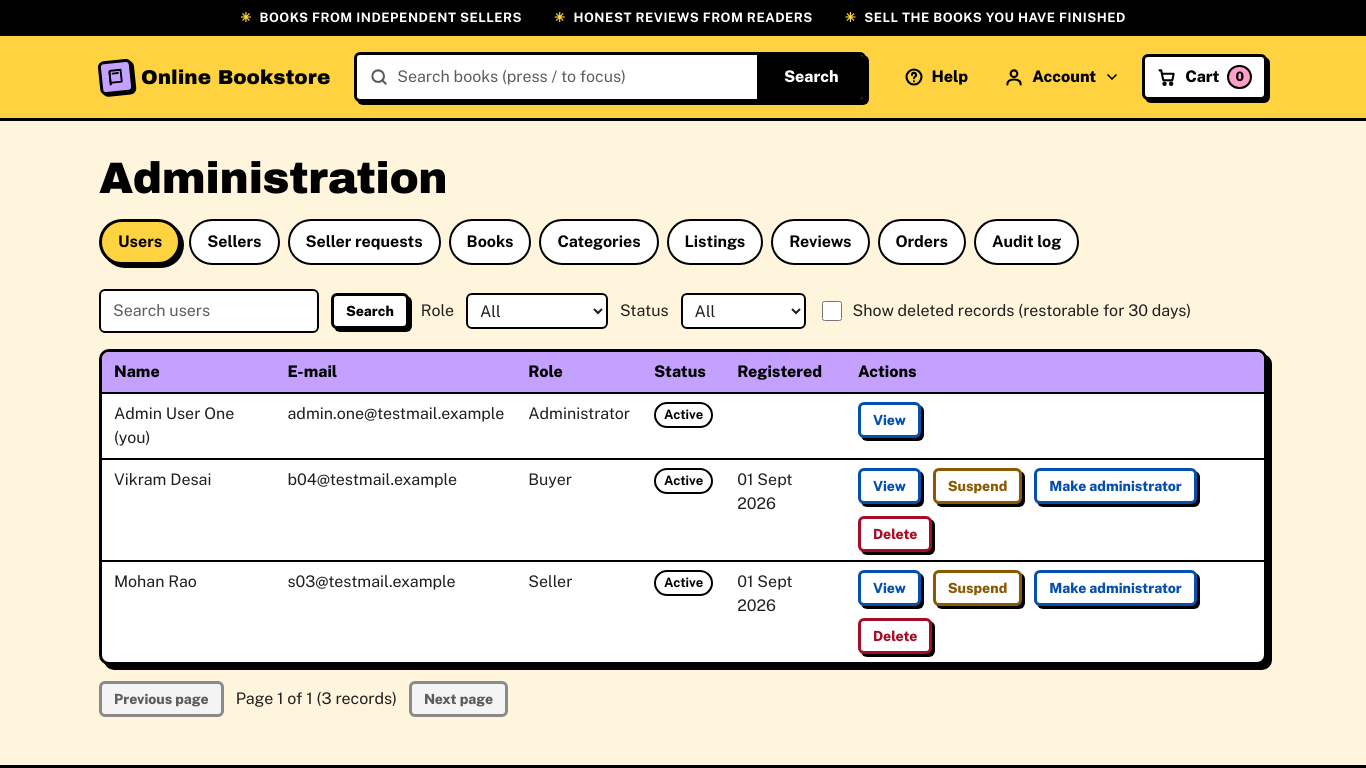
Test: Administration console › TC-BR5-01: a refused action shows the server reason
Check: the heading "Administration" is shown, box x1=99 y1=154 x2=447 y2=202
Check: the table is shown, box x1=102 y1=352 x2=1264 y2=662
Click the tab "Books".
click(490, 242)  # box x1=449 y1=219 x2=532 y2=265
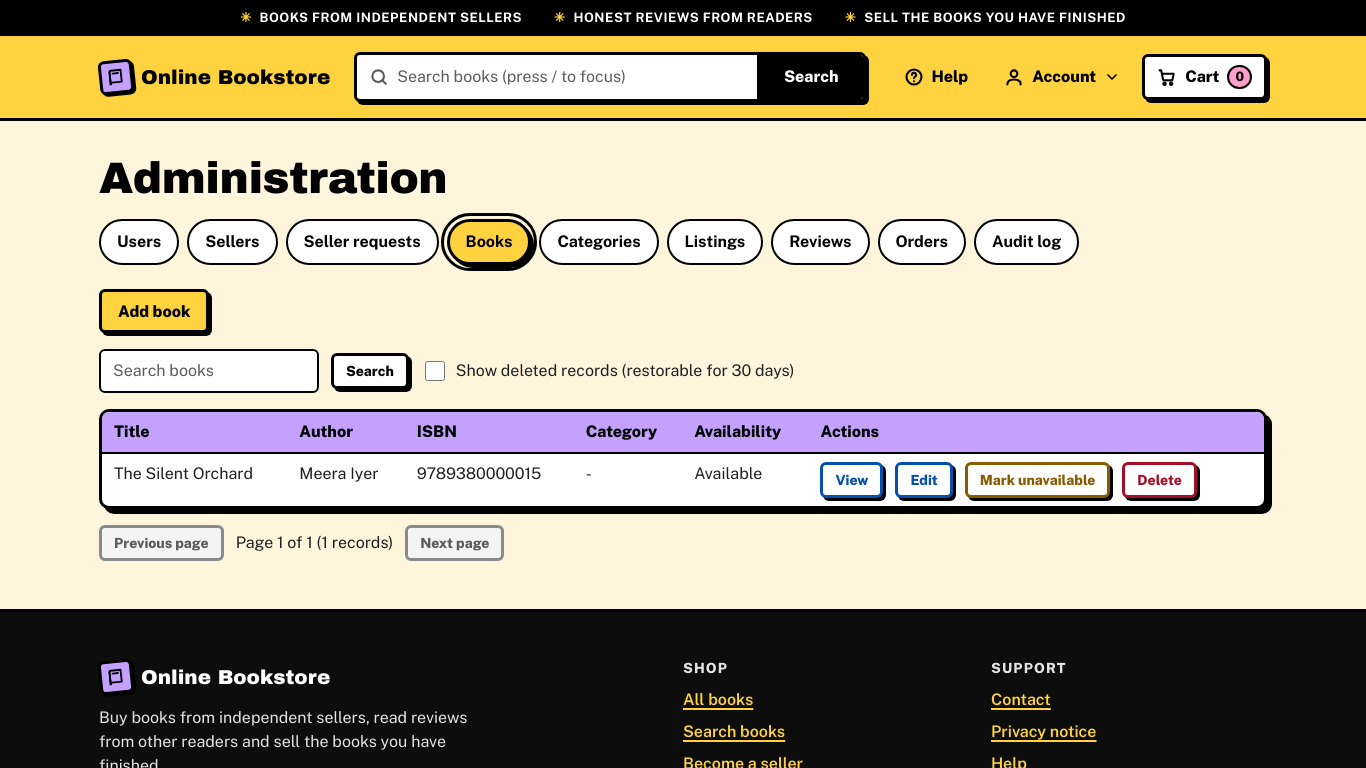
Click the button with aria-label "Delete The Silent Orchard".
click(1160, 480)  # box x1=1122 y1=462 x2=1197 y2=498
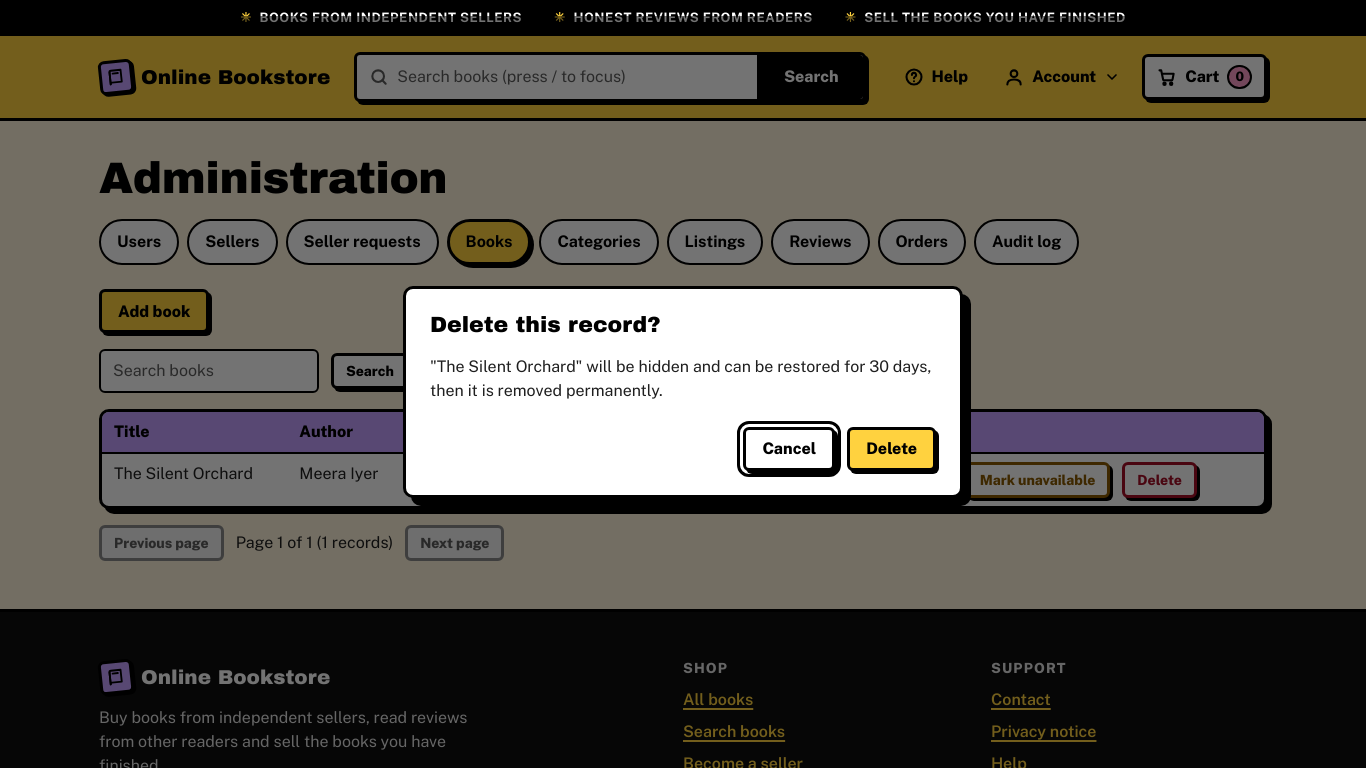
Click the button "Delete".
click(892, 449)  # box x1=847 y1=427 x2=936 y2=471
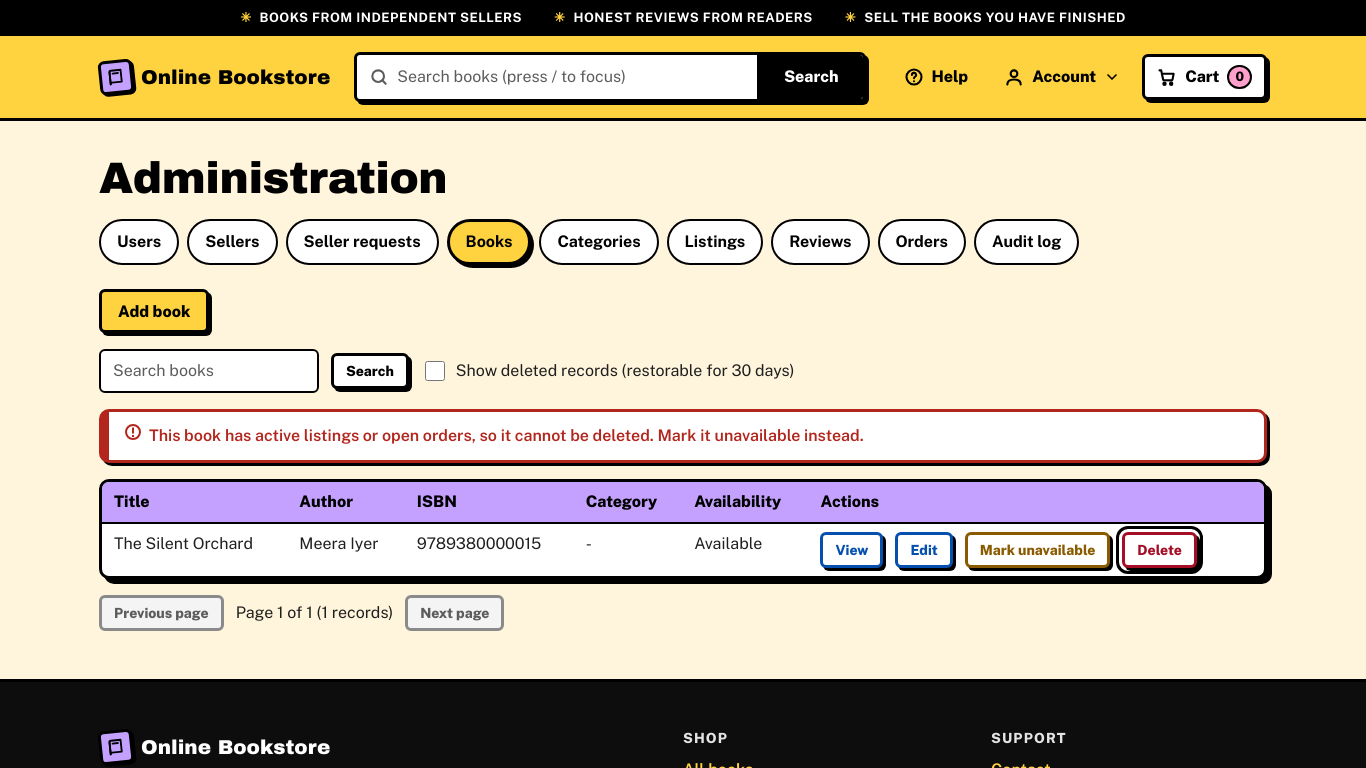
Check: the 1st message shows "Mark it unavailable instead.", box x1=149 y1=426 x2=864 y2=445
